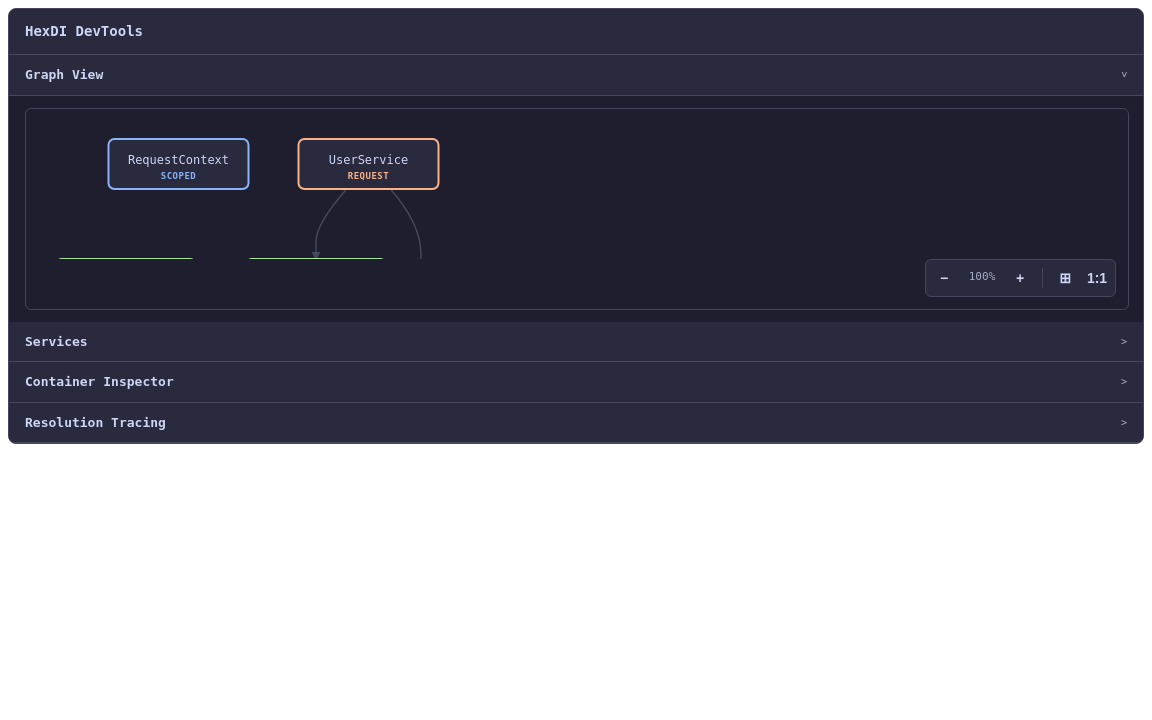
Container State Inspection Integration › scope creation updates tree correctly
# Expand Container Inspector section
Click the button with test id "container-inspector-header" at (99, 382), box [9, 362, 1143, 402]
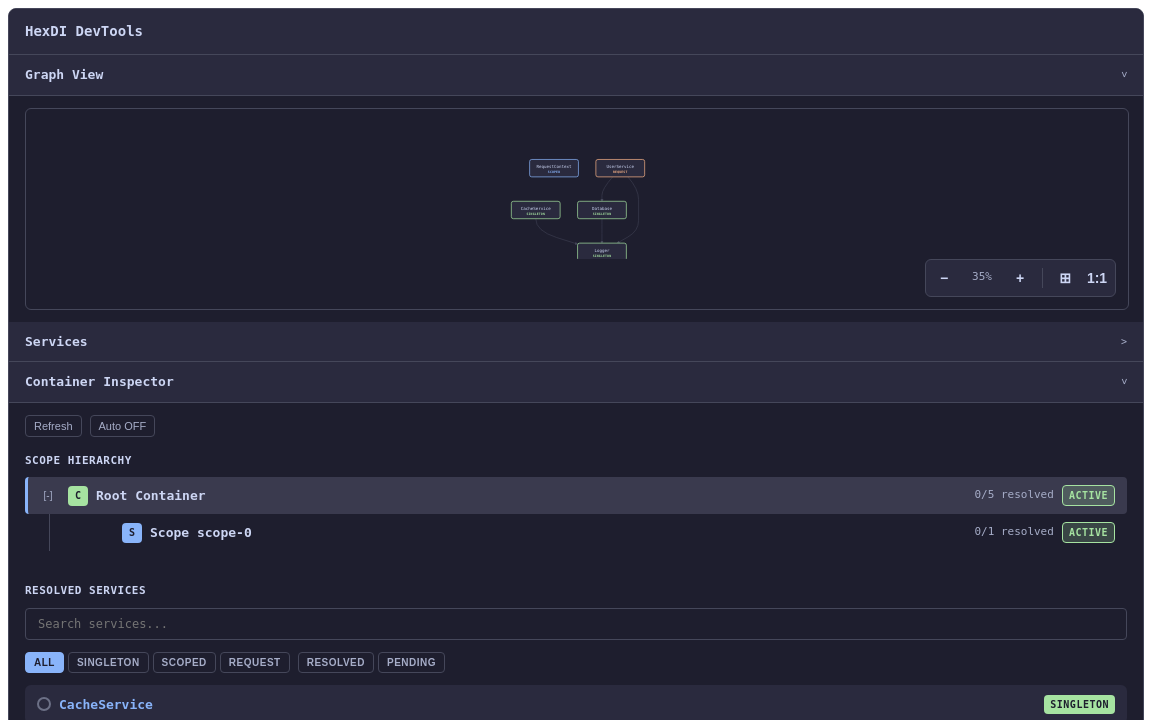
Now the element with test id "scope-node-container" is shown, box [25, 477, 1127, 551]
Now the element with test id "^scope-node-scope-\\d+$" is shown, box [122, 522, 1115, 543]
Now the text with test id "-status" reads "Active", box [1069, 527, 1108, 538]
